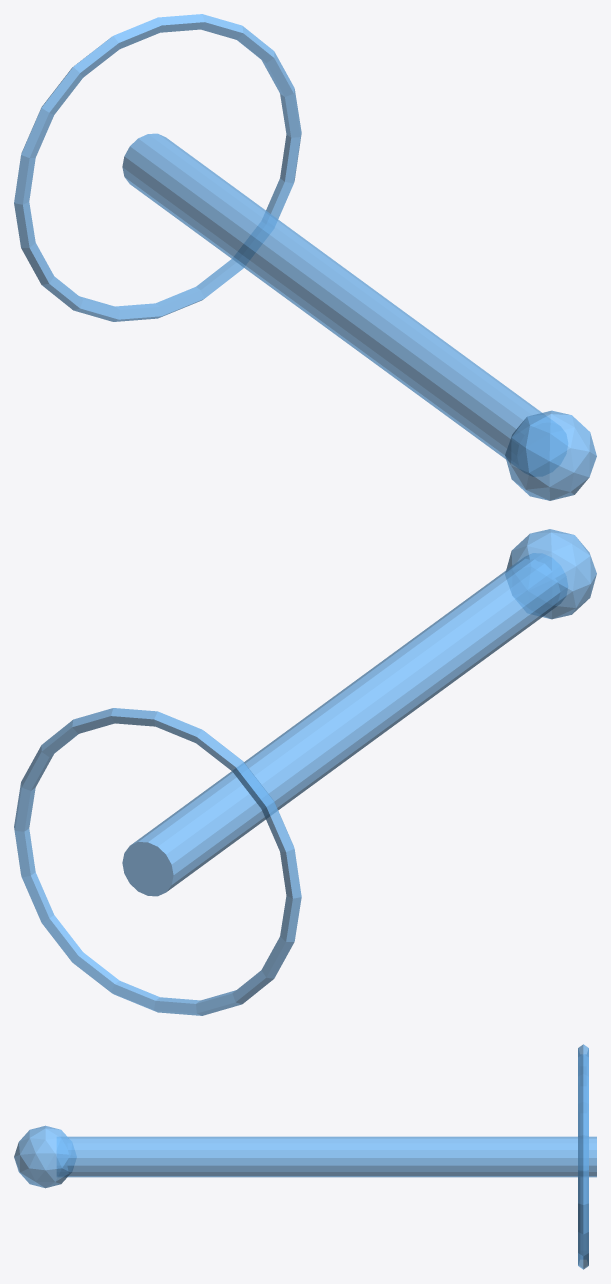
Rendered from loot_beam_rare.glb.
3 renders of one model, top to bottom at view 1: azimuth 30°, elevation 25°; view 2: azimuth 150°, elevation 25°; view 3: azimuth 270°, elevation 25°, orthographic. The views are drawn at different scales.
Visible parts, largest first — view 1: beam, ground_ring, top_spark; view 2: beam, ground_ring, top_spark; view 3: beam, top_spark, ground_ring.
Part boxes in pixels (x1,y1,x2,y2): beam: (122, 133, 567, 476); ground_ring: (14, 14, 301, 321); top_spark: (505, 410, 596, 500); beam: (122, 553, 567, 896); ground_ring: (14, 708, 301, 1015); top_spark: (505, 529, 596, 619); beam: (57, 1136, 596, 1177); top_spark: (14, 1125, 76, 1188); ground_ring: (578, 1044, 588, 1269).
Bounding box in the file's own units: 1.01 × 1.01 × 2.59.
